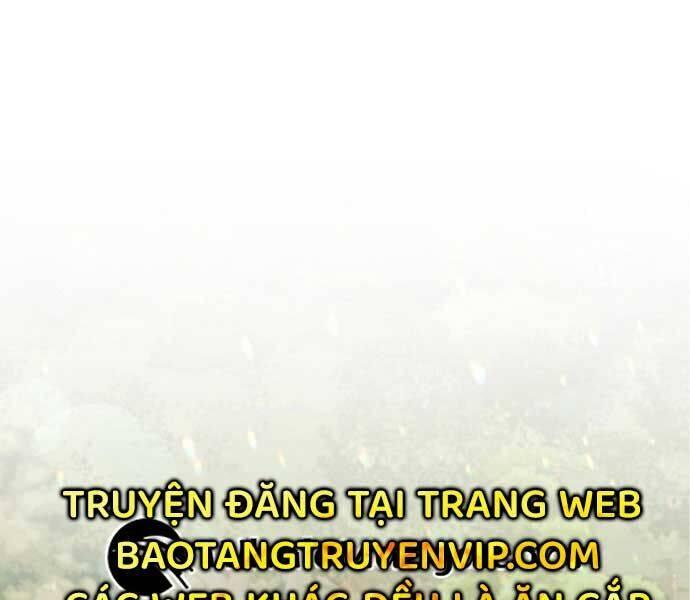quangcao: (51, 475, 654, 600)
